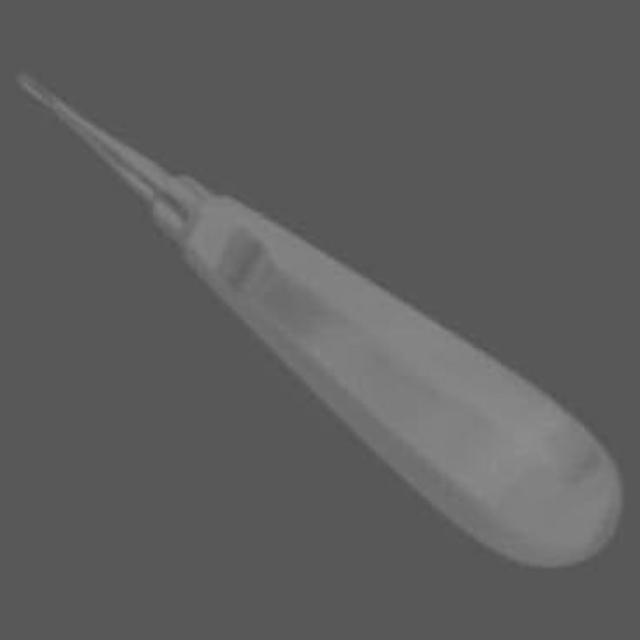botador: (14, 72, 626, 572)
